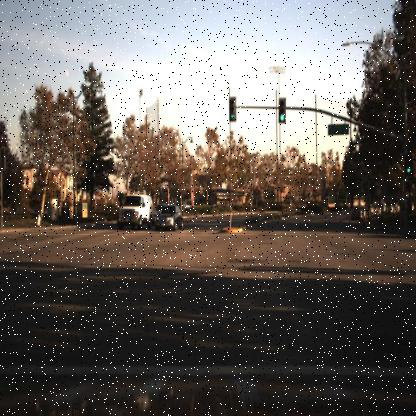car: (118, 193, 154, 231), (152, 202, 182, 232), (350, 198, 364, 219)
trafficLight: (402, 148, 416, 184), (275, 94, 291, 124), (226, 92, 238, 123)
